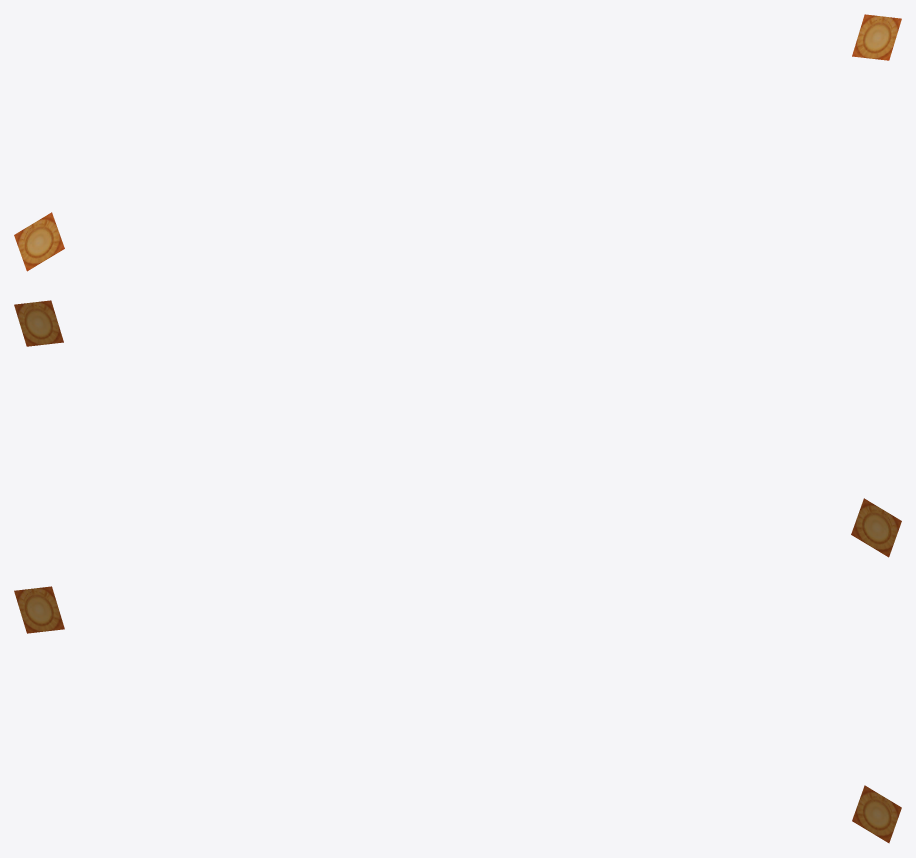
File: hutt_fighter_medium_booster_s02_on_l1.fbx
3 renders of one model, top to bottom at view 1: azimuth 30°, elevation 25°; view 2: azimuth 150°, elevation 25°; view 3: azimuth 330°, elevation 25°, orthographic.
Visible parts, largest first — view 1: mesh_node; view 2: mesh_node; view 3: mesh_node.
Boxes of the visible parts, x1,y1,x2,y2 form: mesh_node: [14, 14, 901, 271]; mesh_node: [14, 300, 901, 557]; mesh_node: [14, 586, 901, 843].
Bounding box in the file's own units: 3.44 × 0.1975 × 0.
Materials: 1 (1 with a texture image).
